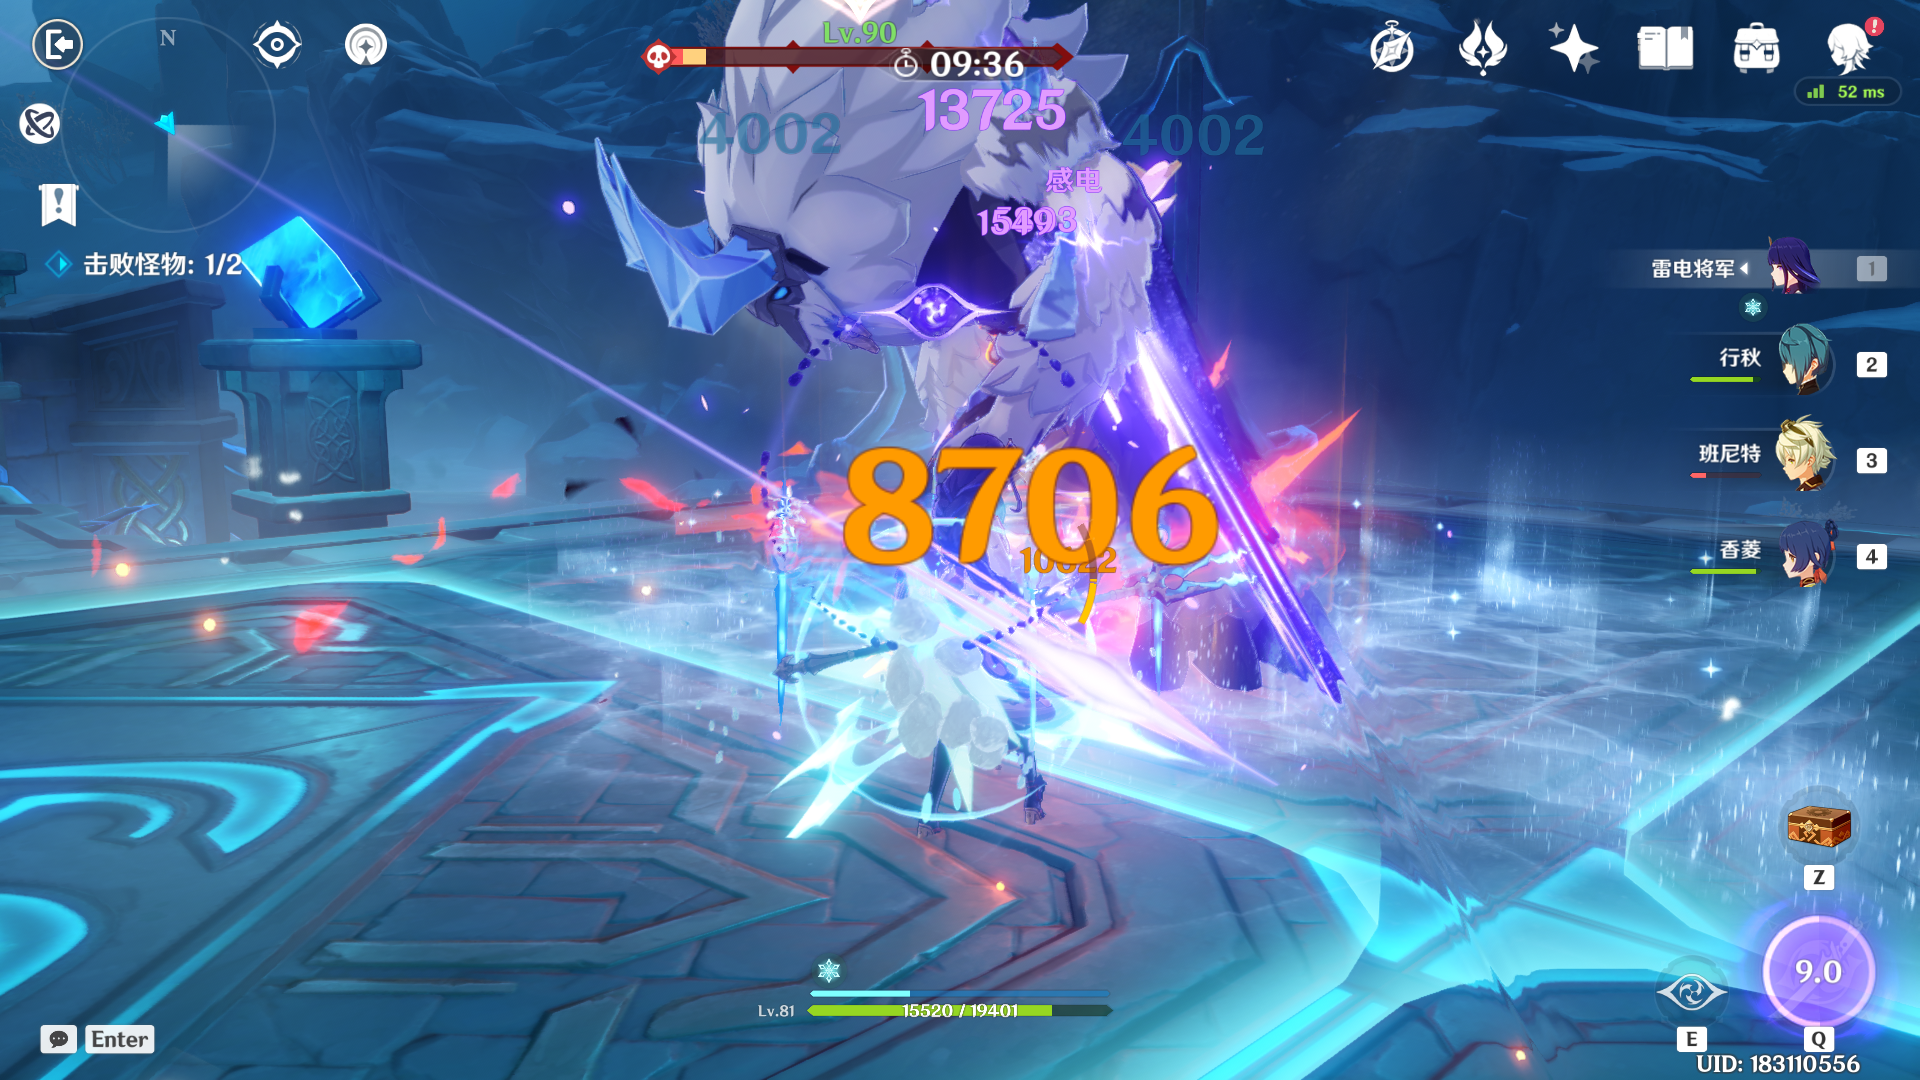bosshili: (554, 1, 1429, 818)
